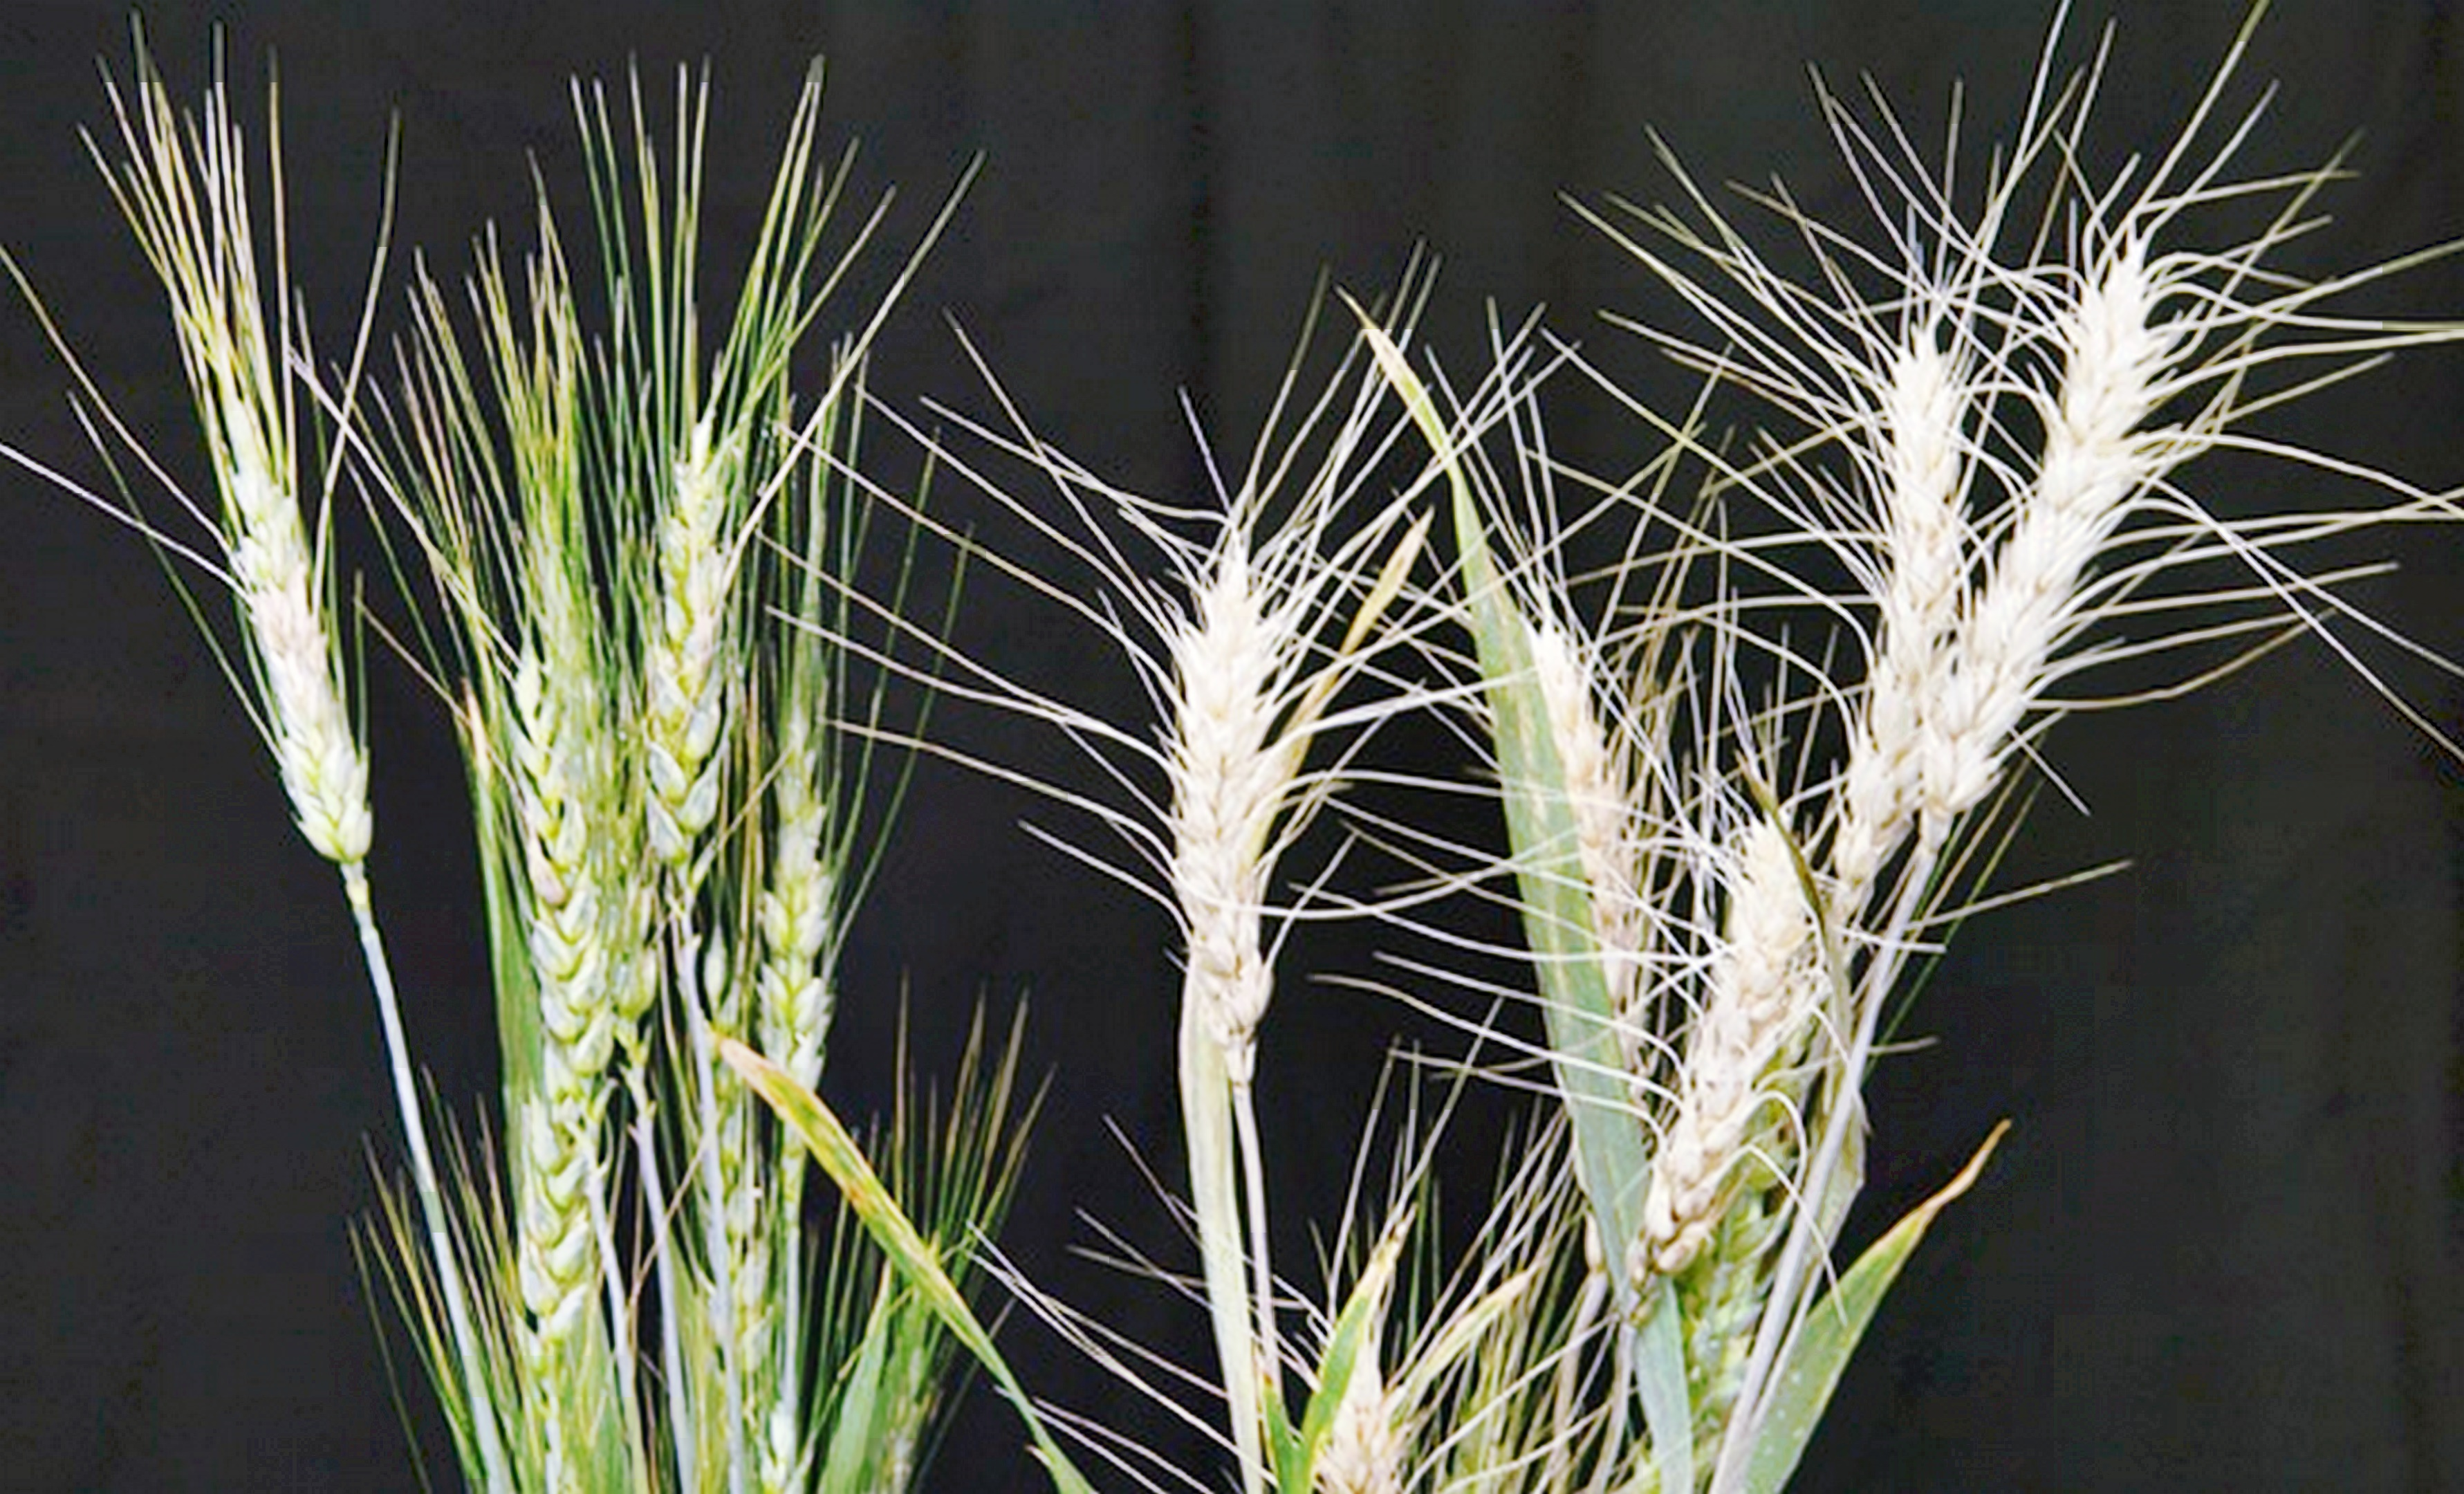Healthy Wheat: (421, 334, 896, 1374)
